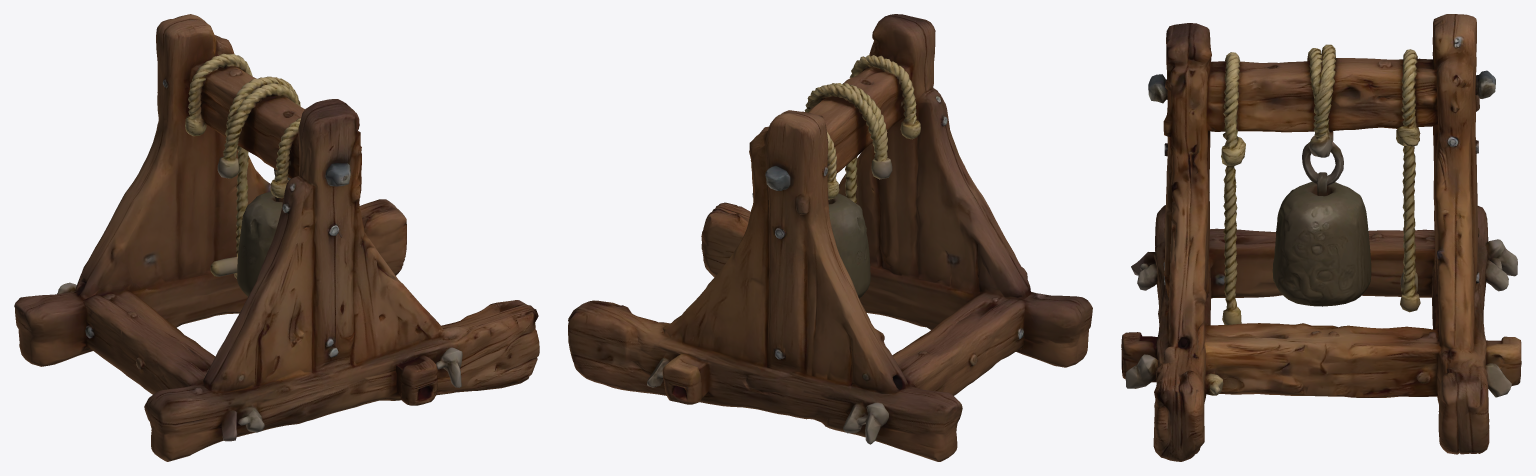
Rendered from biersling.glb.
3 views of the same model, side by side, from view 1: azimuth 30°, elevation 25°; view 2: azimuth 150°, elevation 25°; view 3: azimuth 270°, elevation 25° (orthographic). The views are drawn at different scales.
Visible parts, largest first — view 1: tripo_node_b41dfc6b-11fa-4fa4-8292-2d3eefd3df7f; view 2: tripo_node_b41dfc6b-11fa-4fa4-8292-2d3eefd3df7f; view 3: tripo_node_b41dfc6b-11fa-4fa4-8292-2d3eefd3df7f.
Part boxes in pixels (x1,y1,x2,y2): tripo_node_b41dfc6b-11fa-4fa4-8292-2d3eefd3df7f: [14, 14, 539, 461]; tripo_node_b41dfc6b-11fa-4fa4-8292-2d3eefd3df7f: [568, 14, 1092, 461]; tripo_node_b41dfc6b-11fa-4fa4-8292-2d3eefd3df7f: [1121, 14, 1521, 461].
Bounding box in the file's own units: 1 × 0.7861 × 0.8445.
Materials: 1 (1 with a texture image).
